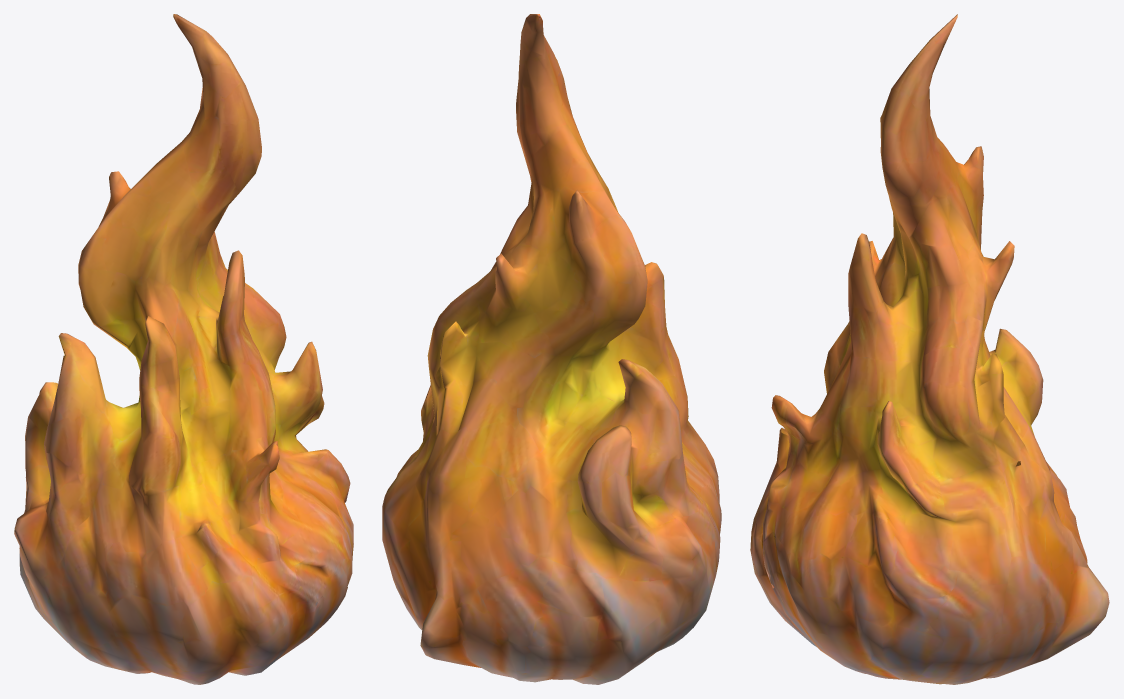
Rendered from flame.glb.
3 renders of one model, left to right at view 1: azimuth 30°, elevation 25°; view 2: azimuth 150°, elevation 25°; view 3: azimuth 270°, elevation 25°, orthographic. The views are drawn at different scales.
Size of the model in its own units: 0.9946 by 2 by 1.
1 material, 1 textured.
